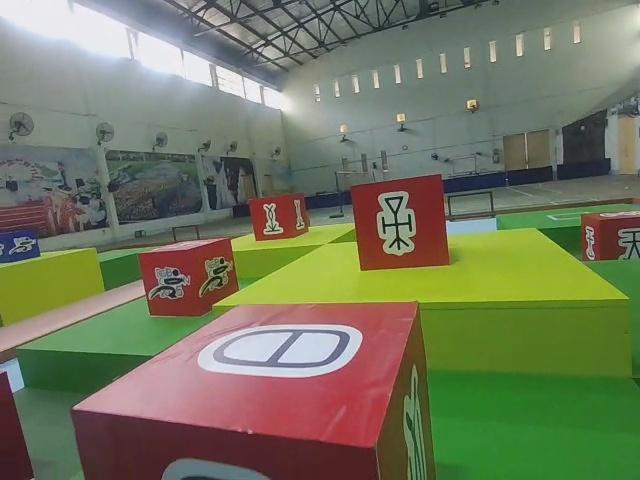R1: (139, 237, 240, 316)
R2 Fake: (72, 304, 438, 480)
R2 Real: (351, 172, 452, 271), (578, 209, 640, 264), (247, 189, 310, 243)
